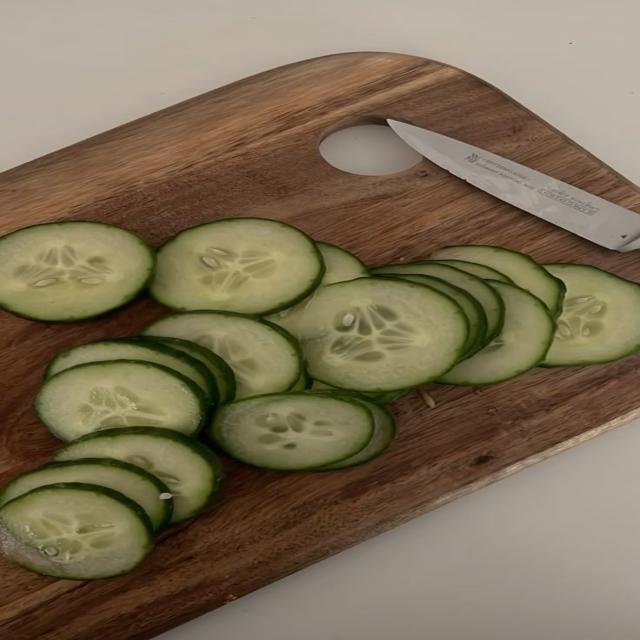cucumber sliced: (300, 278, 468, 391), (150, 218, 324, 315), (54, 428, 223, 523), (0, 222, 155, 321), (0, 483, 153, 579), (142, 311, 303, 398), (34, 361, 207, 440), (210, 392, 373, 470), (0, 459, 173, 530), (438, 281, 555, 385), (45, 338, 218, 403), (372, 262, 504, 343), (543, 264, 639, 366), (432, 245, 565, 316), (378, 275, 486, 357), (148, 336, 235, 403), (317, 396, 395, 470), (316, 243, 368, 286), (316, 242, 368, 285), (429, 260, 513, 283), (358, 390, 405, 405), (290, 371, 310, 391)
